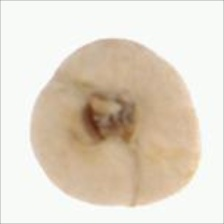L3: (78, 87, 139, 151)
L4: (30, 38, 202, 207)
